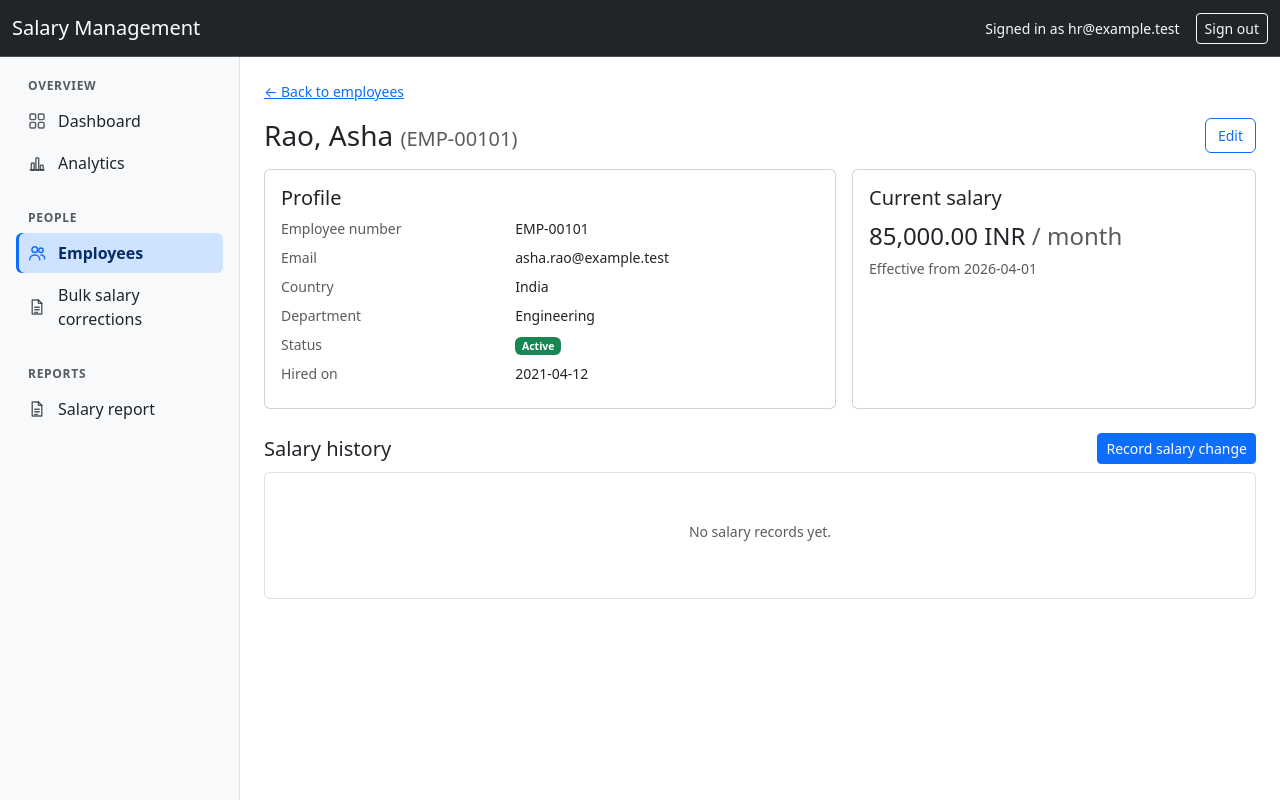
Test case: Record salary change › is available with no history yet, with no currency chosen and no date rule (U8)
Check: the text "No salary records yet." is shown, box [689,522,831,541]
Step 1. Click the button "Record salary change" → (1177, 449), box [1098,433,1256,464]
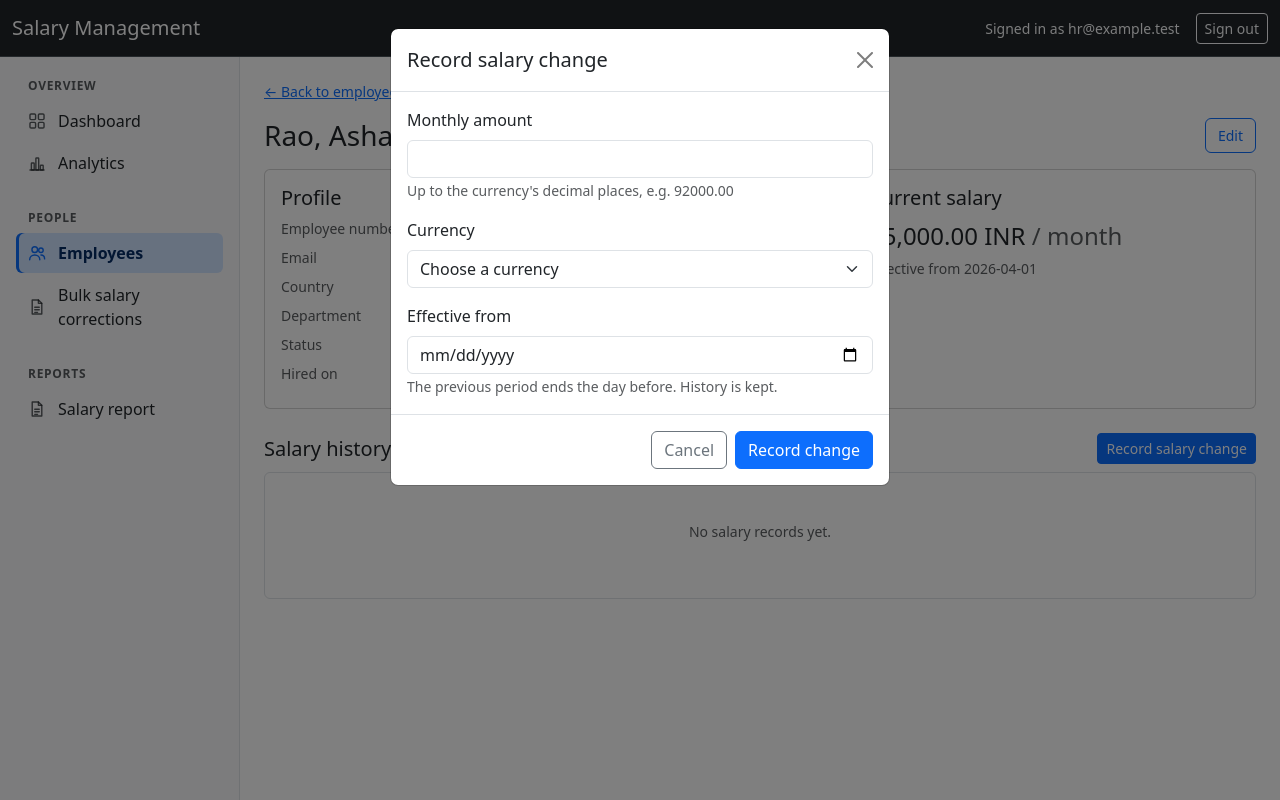
Check: the dropdown labelled "Currency" shows "Choose a currency", box [407,250,873,288]
